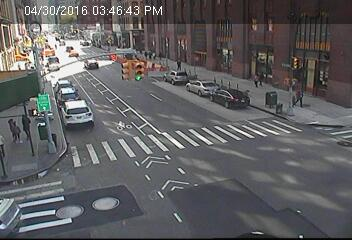neg: (156, 101, 174, 126), (32, 115, 50, 139), (185, 67, 201, 88), (183, 154, 199, 175), (112, 117, 127, 137), (229, 85, 244, 104), (130, 63, 144, 82), (80, 56, 94, 75), (267, 90, 280, 108), (210, 59, 222, 74), (99, 34, 110, 47), (46, 60, 56, 73), (51, 41, 58, 50)
pos: (14, 113, 34, 140), (2, 117, 22, 144), (291, 85, 308, 108), (256, 70, 269, 88), (173, 56, 185, 71), (252, 73, 262, 87), (155, 49, 164, 61), (147, 49, 156, 61), (143, 50, 151, 60)
